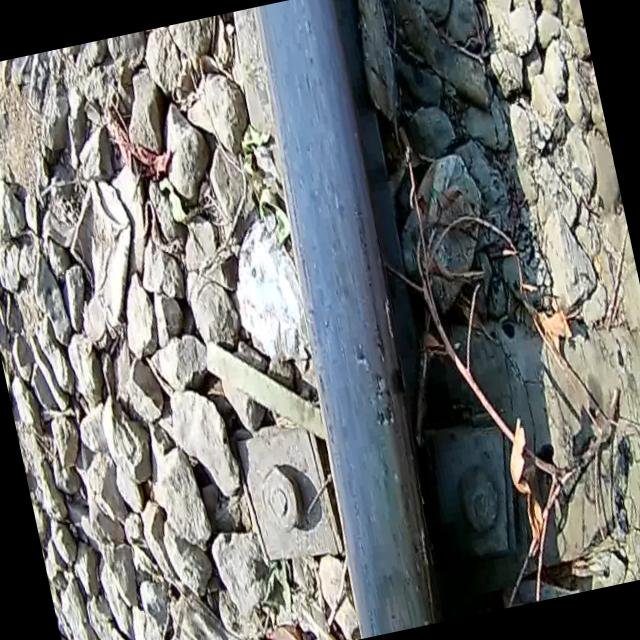Squats: (206, 0, 500, 640)
